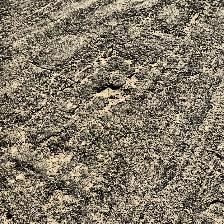pothole: (92, 84, 132, 106), (125, 74, 139, 84)
